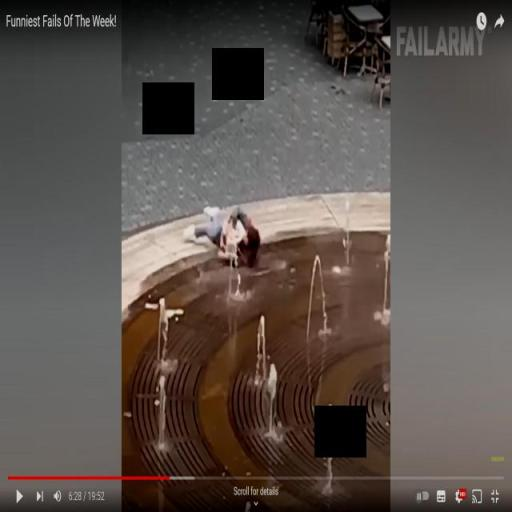Fall: (182, 202, 263, 272)
